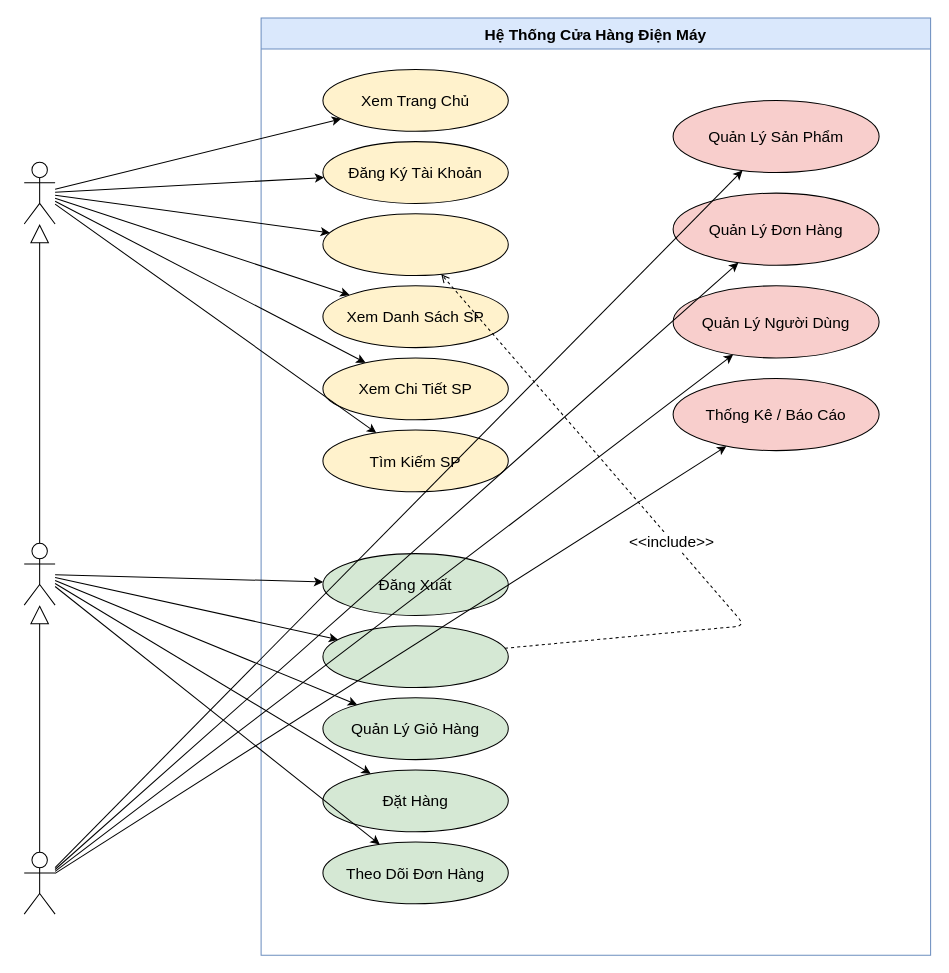
The diagram is 949 pixels wide and 973 high, and some of its shapes have lost their labels. The shapes that lost their labels are listed below. From the top down, each one's box as (x1, y1, x2, y2) in pixels, then its label:
(23, 161, 55, 224): Guest
(322, 213, 508, 276): Đăng Nhập
(23, 542, 55, 605): User
(322, 625, 508, 688): Thêm Vào Giỏ Hàng
(23, 851, 55, 914): Admin
